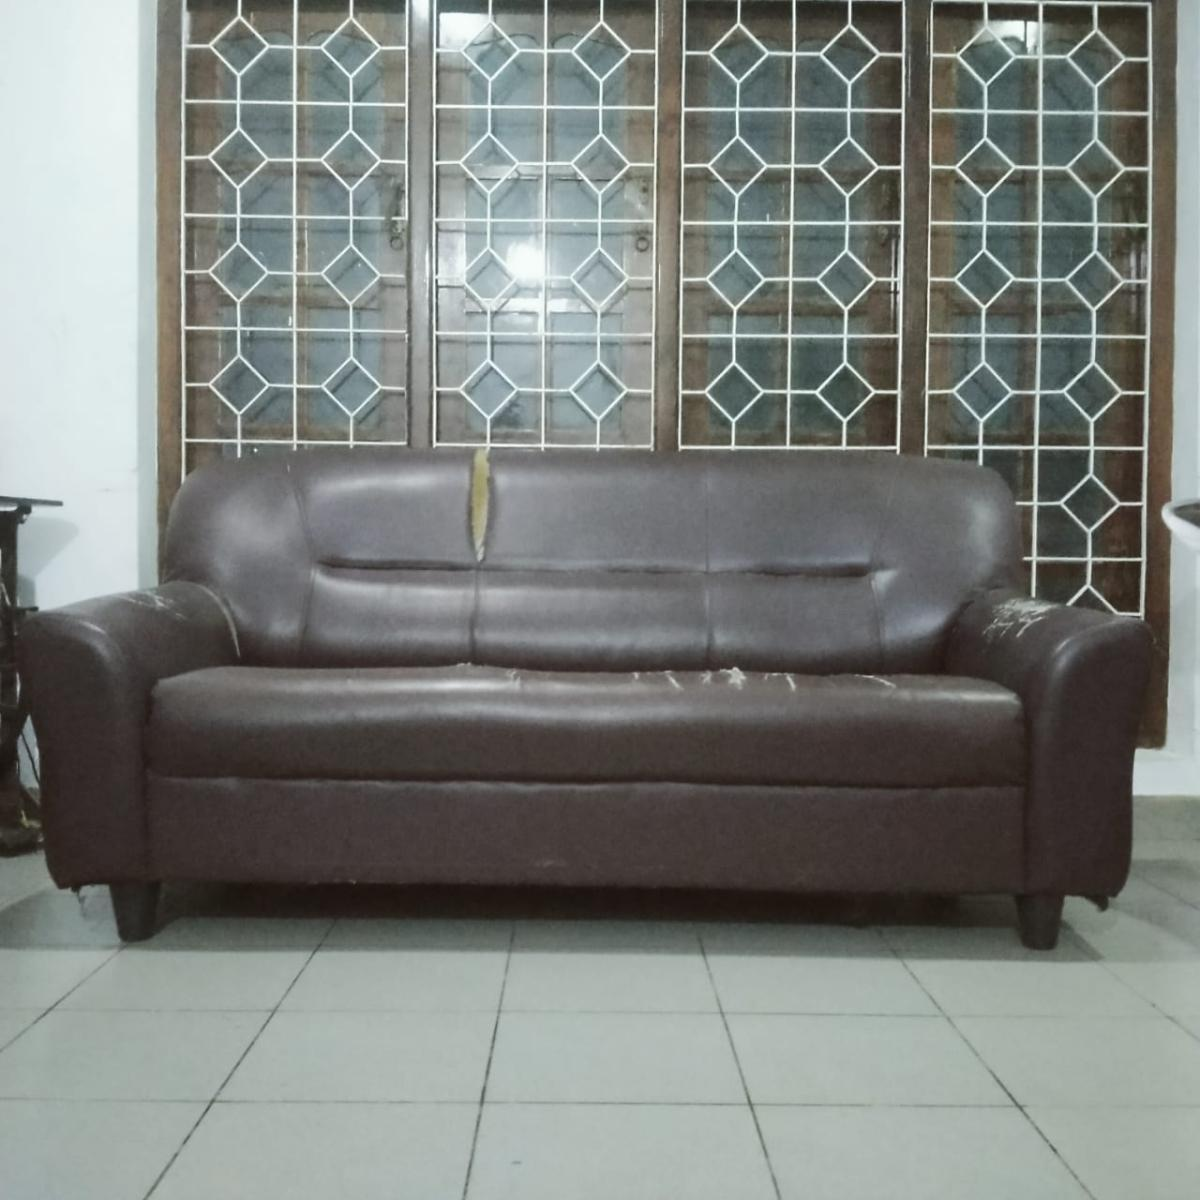Sofa: (22, 445, 1144, 945)
